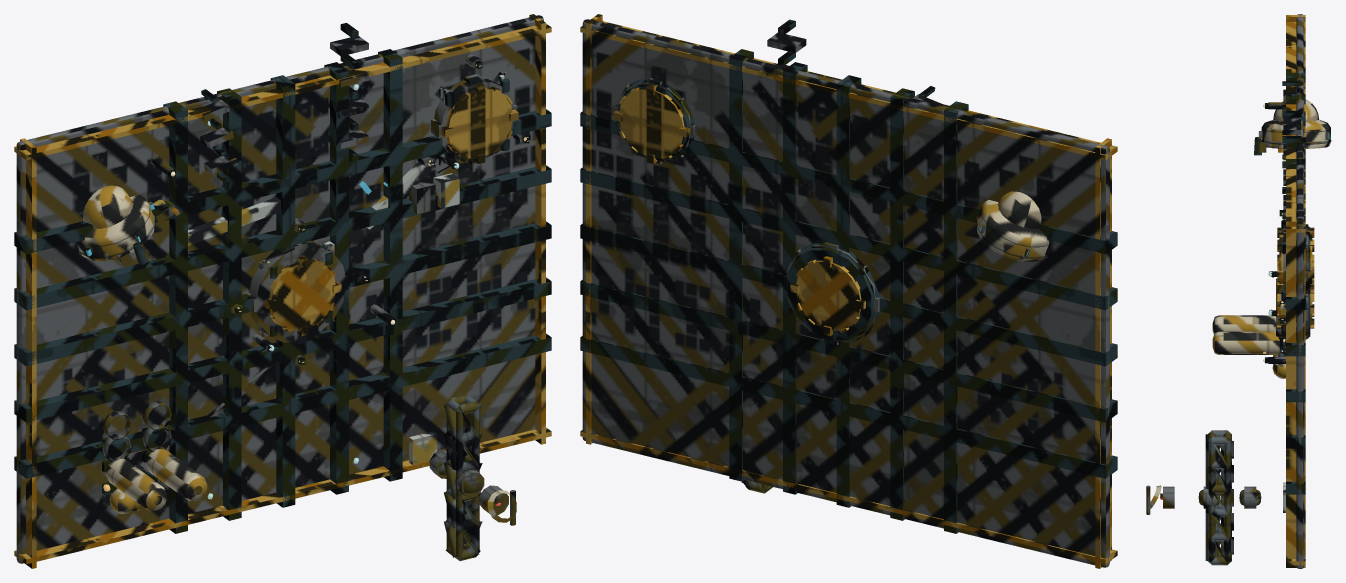
The picture shows the model from 3 angles, left to right: view 1: azimuth 30°, elevation 25°; view 2: azimuth 150°, elevation 25°; view 3: azimuth 270°, elevation 25°; orthographic projection. The views are drawn at different scales.
Visible parts, largest first — view 1: merged-6a7076, merged-263c43, merged-c19a3e, merged-646a6c, merged-cfc7ae, merged-5d6a72, merged-c3ccca; view 2: merged-6a7076, merged-263c43, merged-c19a3e, merged-cfc7ae, merged-646a6c; view 3: merged-c19a3e, merged-6a7076, merged-cfc7ae, merged-5d6a72, merged-263c43, merged-646a6c.
Boxes of the visible parts, bbox=[...] form: merged-6a7076: bbox=[16, 15, 543, 563]; merged-263c43: bbox=[14, 23, 551, 533]; merged-c19a3e: bbox=[14, 14, 551, 568]; merged-646a6c: bbox=[76, 54, 530, 525]; merged-cfc7ae: bbox=[76, 185, 516, 522]; merged-5d6a72: bbox=[432, 394, 482, 560]; merged-c3ccca: bbox=[135, 75, 504, 473]; merged-6a7076: bbox=[582, 19, 1109, 567]; merged-263c43: bbox=[580, 19, 1117, 533]; merged-c19a3e: bbox=[580, 14, 1117, 568]; merged-cfc7ae: bbox=[977, 191, 1049, 261]; merged-646a6c: bbox=[614, 78, 1048, 345]; merged-c19a3e: bbox=[1277, 15, 1314, 567]; merged-6a7076: bbox=[1163, 14, 1304, 568]; merged-cfc7ae: bbox=[1148, 99, 1330, 509]; merged-5d6a72: bbox=[1198, 430, 1261, 565]; merged-263c43: bbox=[1254, 72, 1310, 494]; merged-646a6c: bbox=[1146, 102, 1331, 514].
Size of the model in its own units: 196 by 183 by 72.72.
14 materials, 8 textured.
